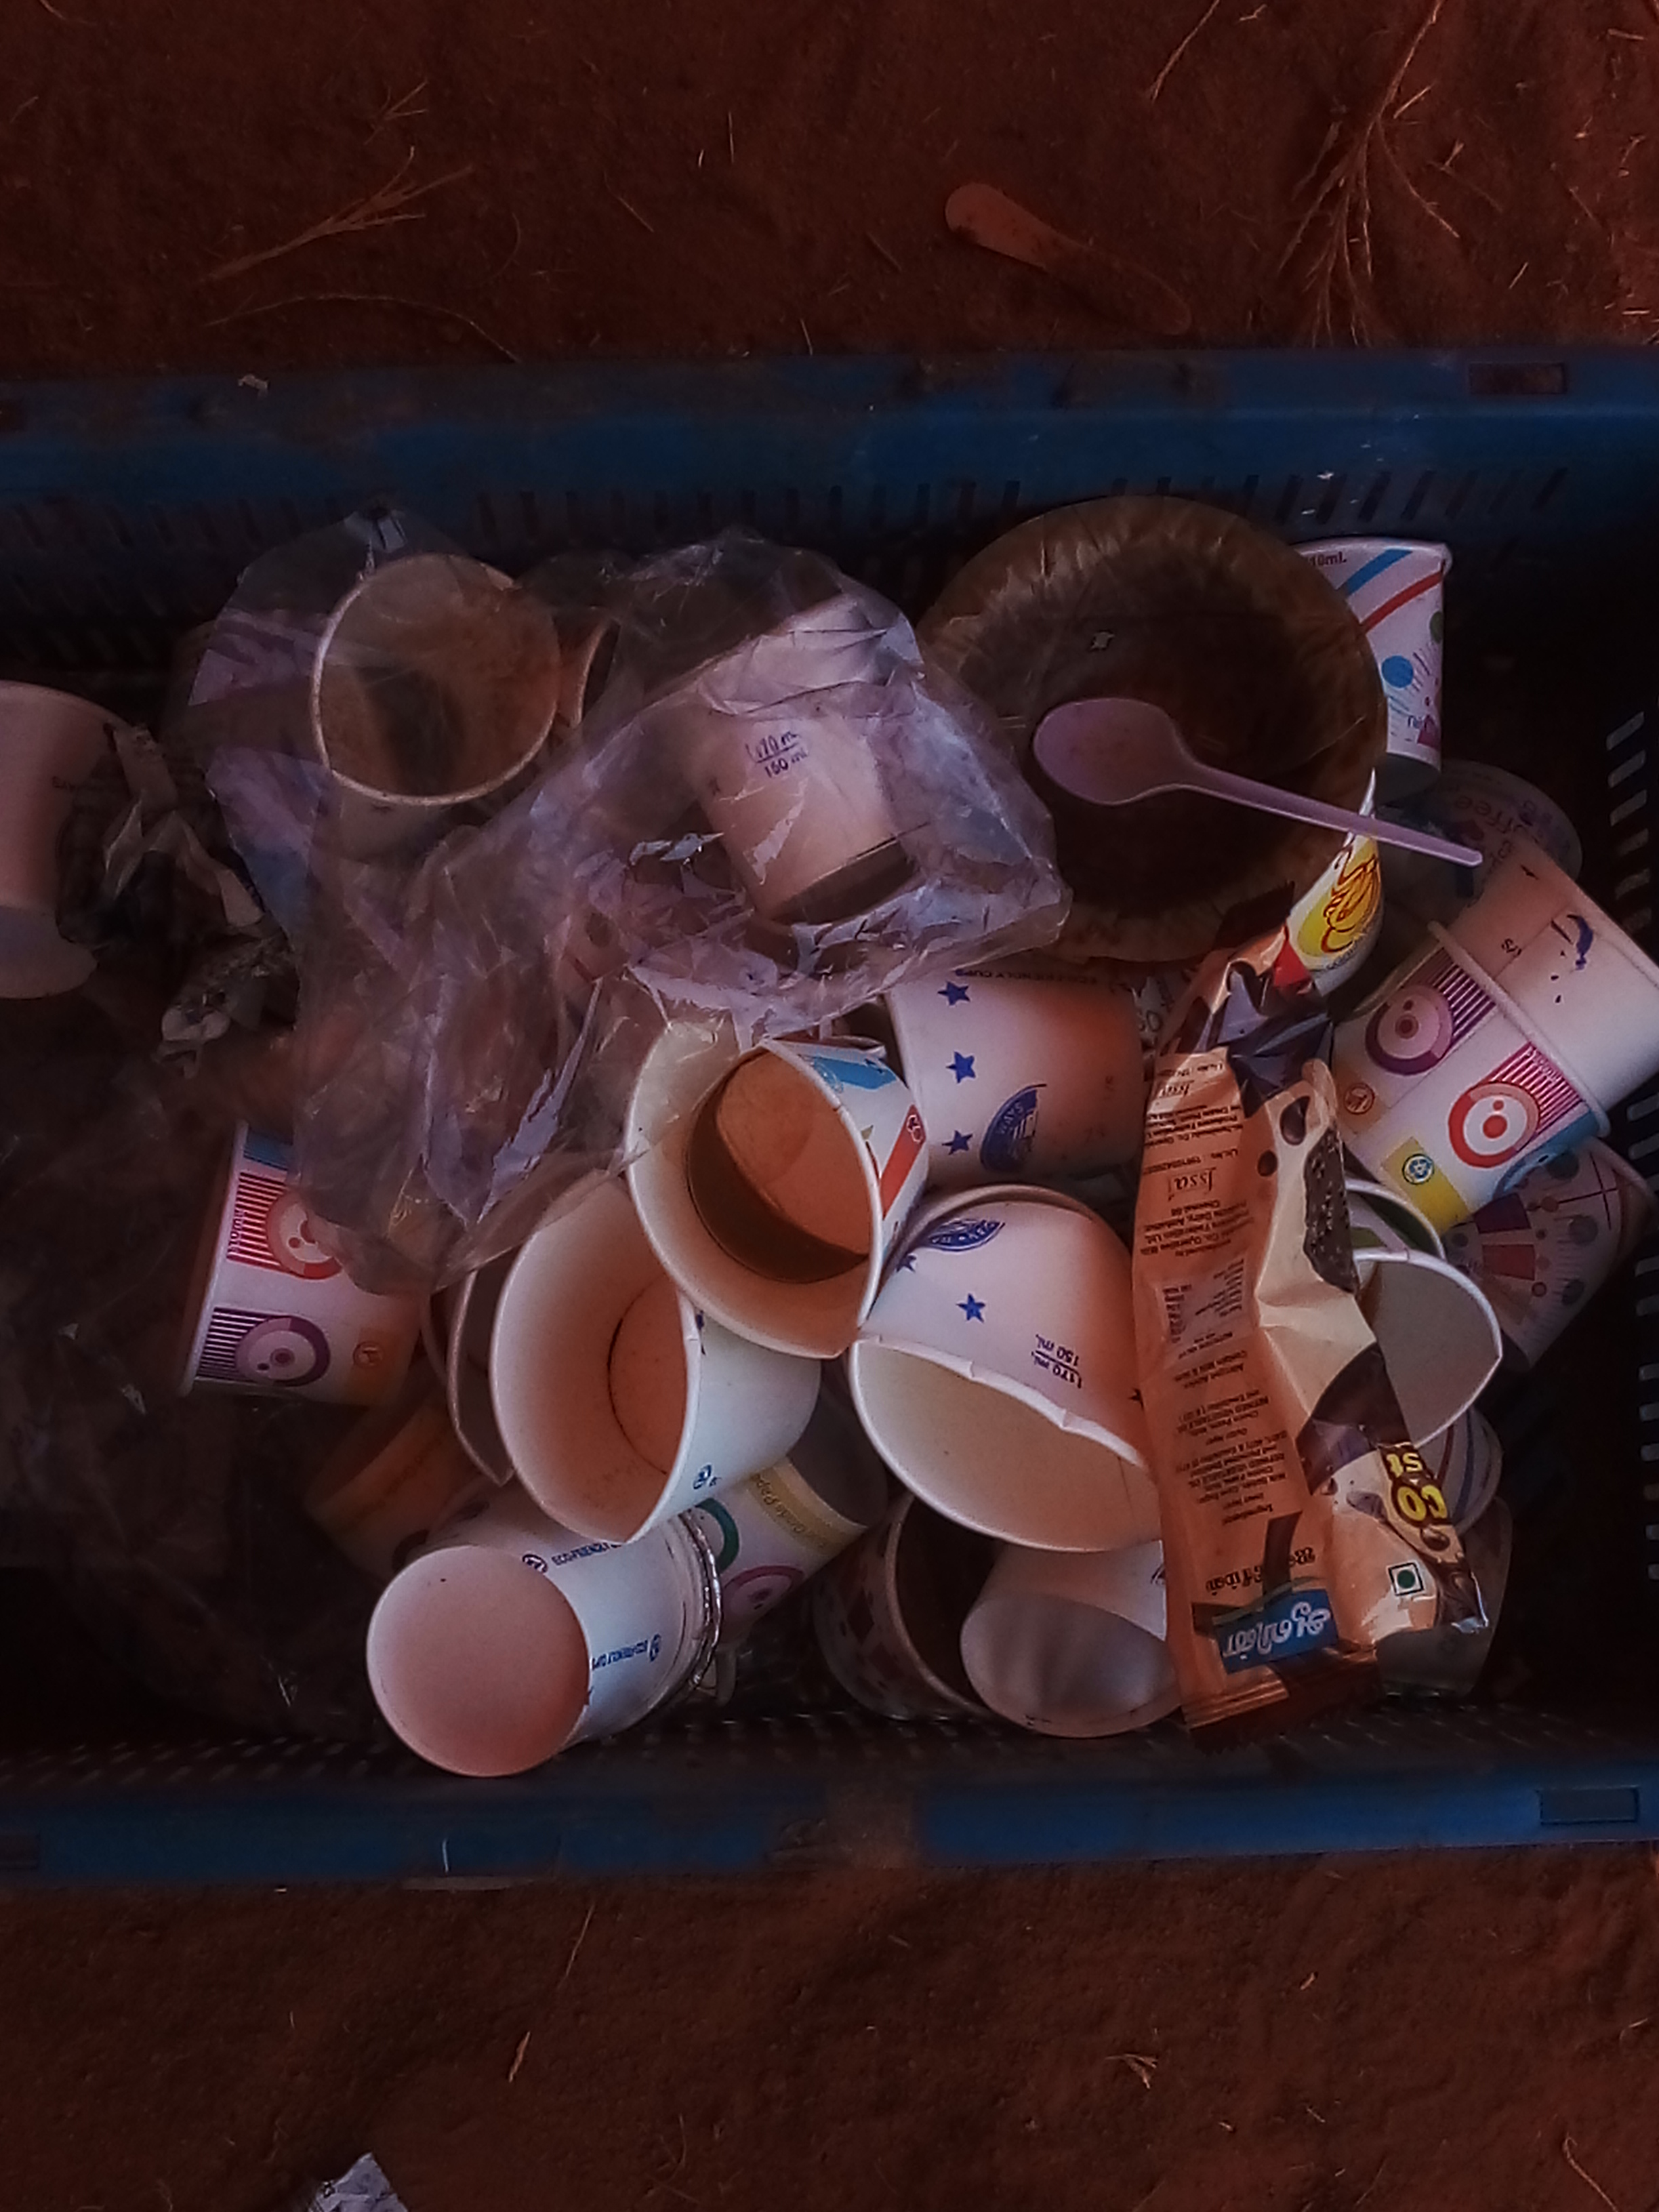pcup: (474, 1207, 784, 1522), (293, 1524, 688, 1768)
